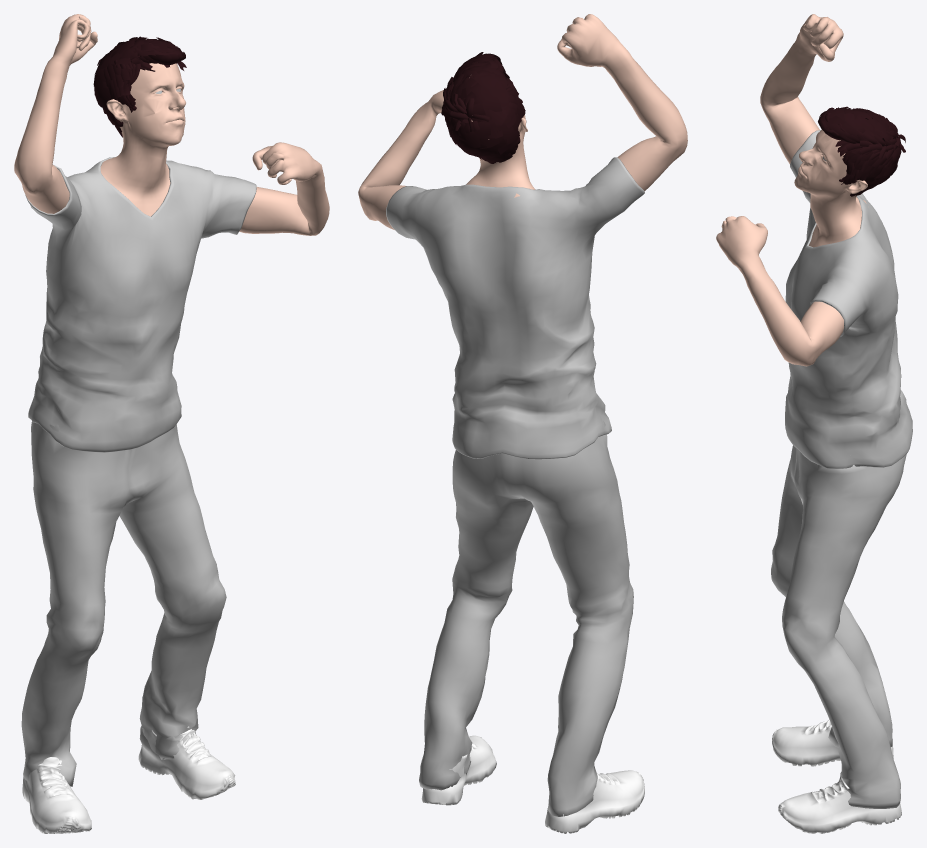
Rendered from petitbiscuit.obj.
3 renders of one model, left to right at view 1: azimuth 30°, elevation 25°; view 2: azimuth 150°, elevation 25°; view 3: azimuth 270°, elevation 25°, orthographic. The views are drawn at different scales.
Visible parts, largest first — view 1: Bottoms, Tops, Body, Shoes, Hair; view 2: Tops, Bottoms, Body, Hair, Shoes; view 3: Bottoms, Tops, Body, Shoes, Hair.
Part boxes in pixels (x1=…): Bottoms: x1=21, y1=422, x2=226, y2=786; Tops: x1=25, y1=157, x2=256, y2=452; Body: x1=14, y1=14, x2=329, y2=235; Shoes: x1=22, y1=726, x2=235, y2=833; Hair: x1=93, y1=36, x2=186, y2=137; Tops: x1=386, y1=157, x2=644, y2=459; Bottoms: x1=419, y1=420, x2=633, y2=816; Body: x1=358, y1=14, x2=687, y2=229; Hair: x1=441, y1=52, x2=525, y2=163; Shoes: x1=421, y1=735, x2=644, y2=833; Bottoms: x1=771, y1=445, x2=906, y2=808; Tops: x1=785, y1=130, x2=912, y2=468; Body: x1=716, y1=14, x2=867, y2=366; Shoes: x1=772, y1=719, x2=901, y2=833; Hair: x1=818, y1=106, x2=905, y2=196.
Bounding box in the file's own units: 80.42 × 194 × 45.95.
